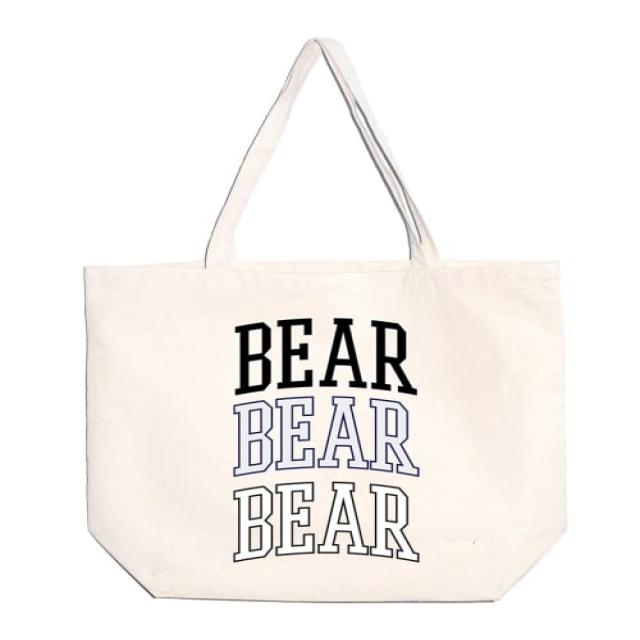ecobag: (36, 42, 597, 616)
